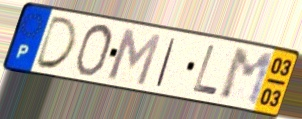D: (32, 14, 81, 71)
I: (154, 36, 179, 90)
L: (190, 43, 220, 99)
M: (106, 25, 165, 88), (217, 47, 276, 108)
O: (72, 23, 115, 78)
